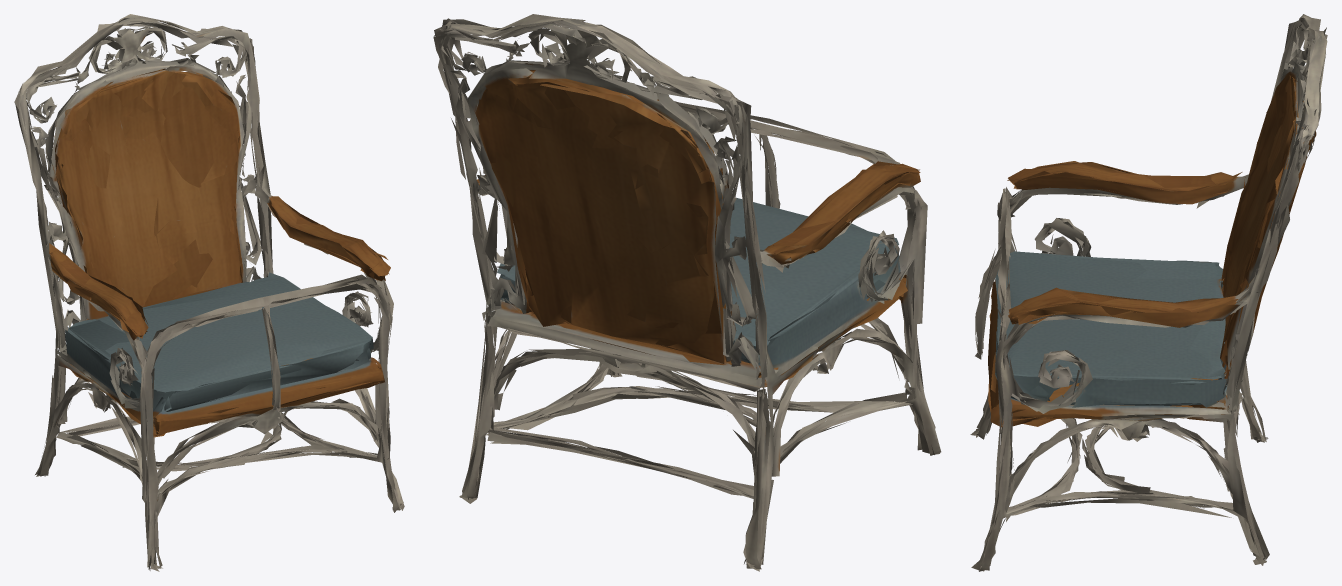
File: unified--detail--swing-seat.glb
3 renders of one model, left to right at view 1: azimuth 30°, elevation 25°; view 2: azimuth 150°, elevation 25°; view 3: azimuth 270°, elevation 25°, orthographic. The views are drawn at different scales.
Visible parts, largest first — view 1: swing-seat-1; view 2: swing-seat-1; view 3: swing-seat-1.
Boxes of the visible parts, x1=… form: swing-seat-1: x1=14, y1=14, x2=404, y2=571; swing-seat-1: x1=433, y1=14, x2=941, y2=571; swing-seat-1: x1=970, y1=14, x2=1327, y2=571.
Bounding box in the file's own units: 0.7328 × 1.1 × 0.7662.
Materials: 1 (1 with a texture image).
